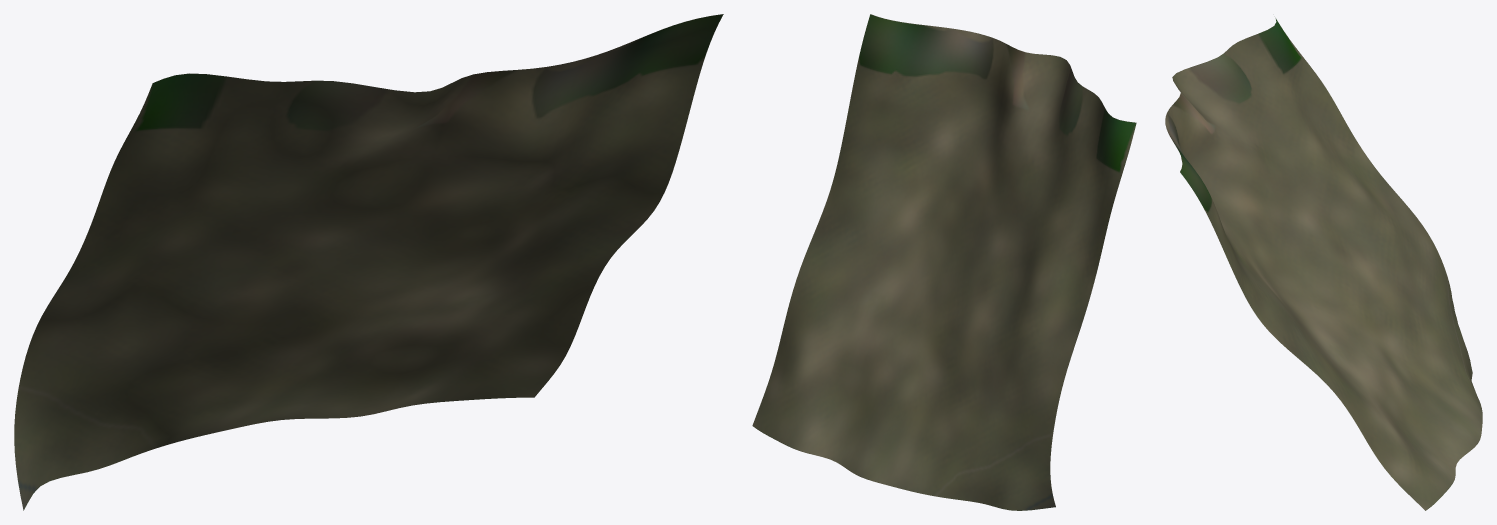
Rendered from ground_mid_02_09.obj.
3 renders of one model, left to right at view 1: azimuth 30°, elevation 25°; view 2: azimuth 150°, elevation 25°; view 3: azimuth 270°, elevation 25°, orthographic. The views are drawn at different scales.
Visible parts, largest first — view 1: ground_mid_02_09; view 2: ground_mid_02_09; view 3: ground_mid_02_09.
Part boxes in pixels (box(x1,y1,x2,y2)): ground_mid_02_09: box(14, 14, 723, 510); ground_mid_02_09: box(752, 14, 1136, 510); ground_mid_02_09: box(1165, 18, 1482, 510).
Bounding box in the file's own units: 200 × 200 × 170.
1 material, 1 textured.
